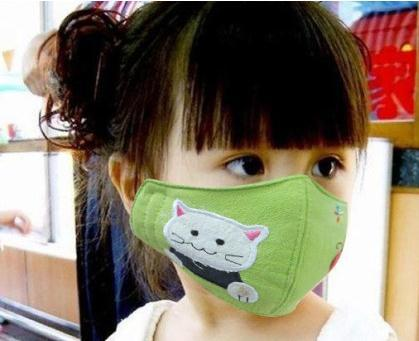OK: (148, 107, 357, 316)
